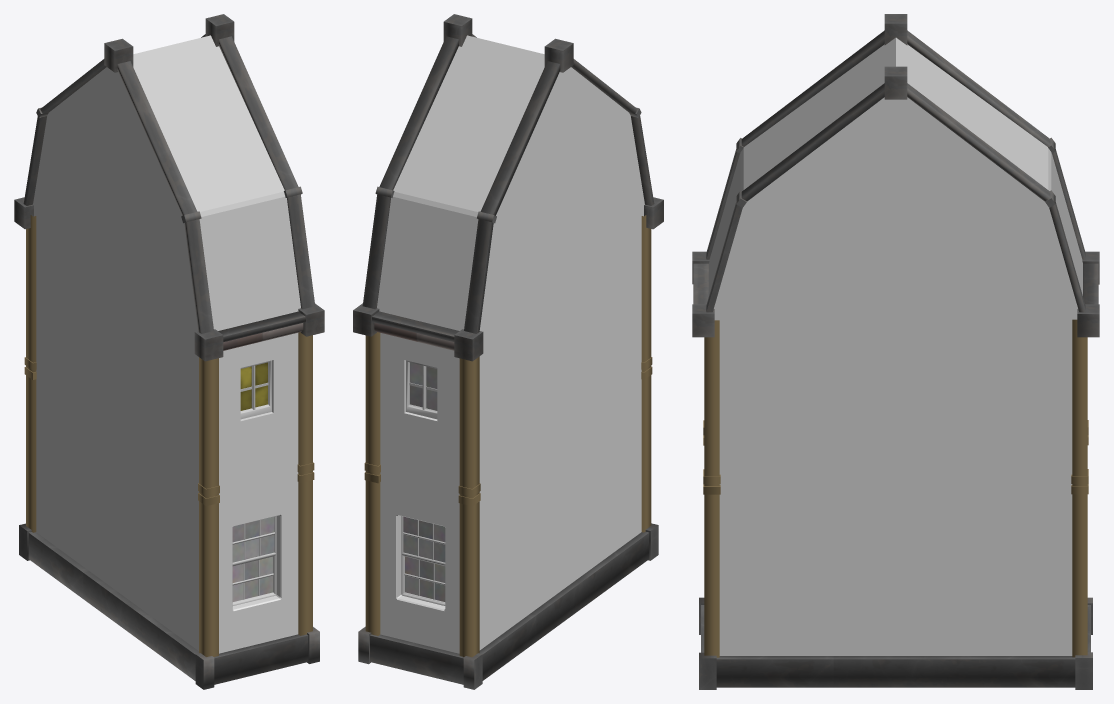
The model's file is Building_07.fbx.
3 renders of one model, left to right at view 1: azimuth 30°, elevation 25°; view 2: azimuth 150°, elevation 25°; view 3: azimuth 270°, elevation 25°, orthographic. The views are drawn at different scales.
Visible parts, largest first — view 1: Wall_03.005, Roof_01.012, Wall_01.005, Wall_02.004, Roof_01.009; view 2: Wall_03.005, Wall_02.004, Roof_01.009, Wall_01.005, Roof_01.012; view 3: Wall_04.004, Roof_01.012, Roof_01.009, Wall_02.004, Wall_01.005.
Boxes of the visible parts, x1,y1,x2,y2 form: Wall_03.005: (28,67,198,680); Roof_01.012: (104,14,324,361); Wall_01.005: (195,332,319,689); Wall_02.004: (19,215,36,560); Roof_01.009: (14,34,205,229); Wall_03.005: (462,67,649,680); Wall_02.004: (358,332,482,689); Roof_01.009: (353,35,560,361); Wall_01.005: (641,215,658,560); Roof_01.012: (443,14,663,229); Wall_04.004: (714,97,1077,687); Roof_01.012: (692,14,907,337); Roof_01.009: (896,30,1099,337); Wall_02.004: (1071,319,1092,689); Wall_01.005: (699,320,720,689).
Size of what is drawn, in the model's own units: 2.37 by 10.87 by 6.53.
